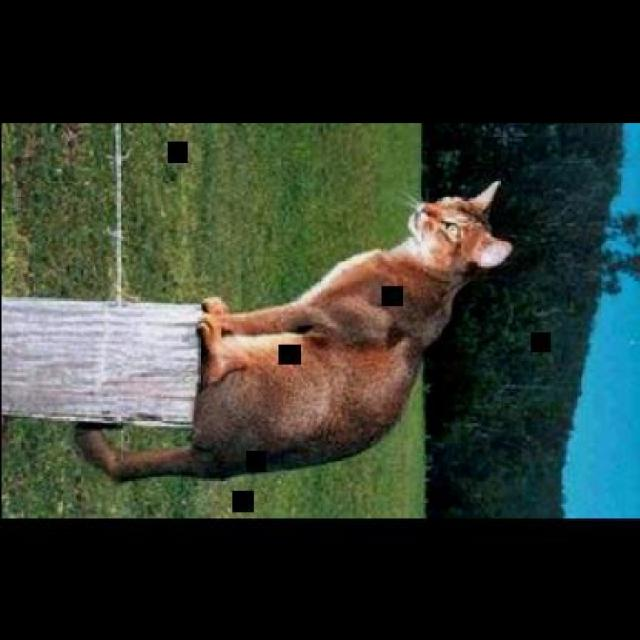unauthorized: (72, 177, 514, 481)
